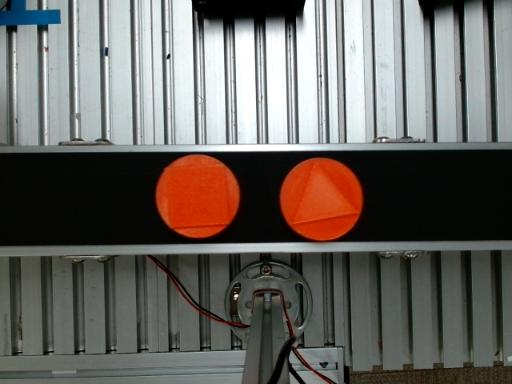Not_Square: (291, 159, 360, 224)
Orange_Waper: (156, 154, 239, 238), (280, 158, 362, 240)
Square: (165, 164, 231, 229)
